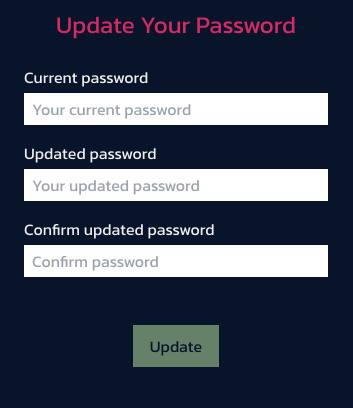
Test case: Update password form tests: › Pre-submit tests: › Where password field is not empty: › It should not show validation errors when the updated password field is blurred with a validation error
Type "password12£" into the field titled "current password". click: (176, 109)
box: [24,93,328,125]
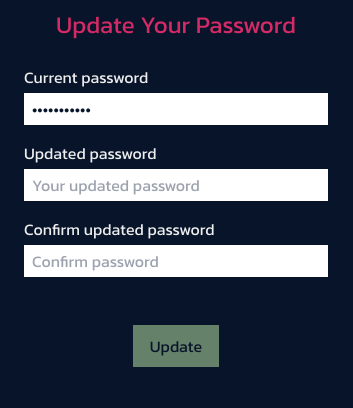
Type "invalid" into the field titled "updated password". click: (176, 185)
box: [24,169,328,201]
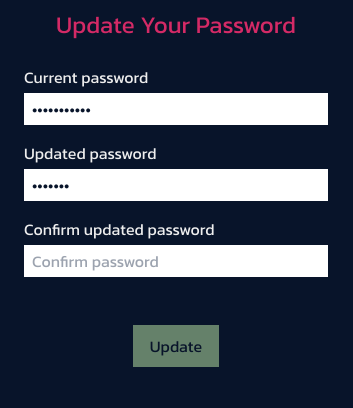
Leave the field titled "updated password", box [24,169,328,201]
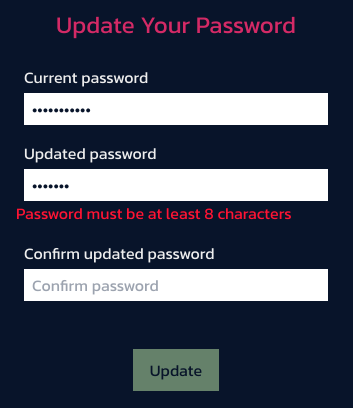
Check: the message "Password must be at least 8 characters" is shown, box [16,201,336,225]
